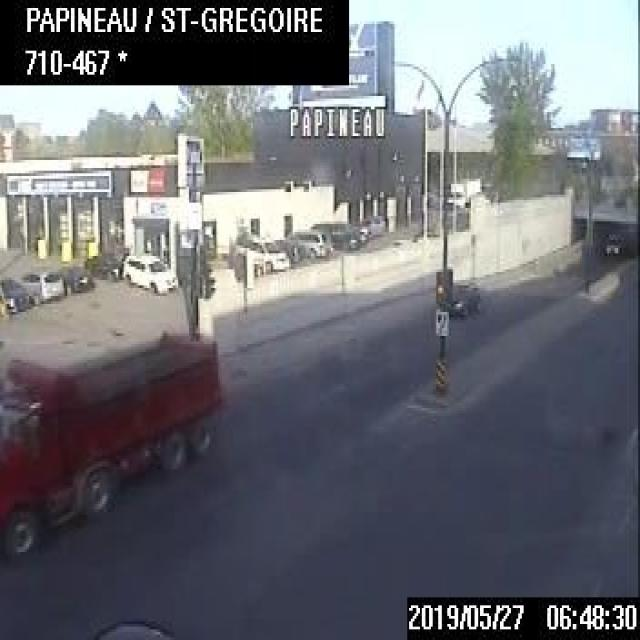vehicle: (0, 328, 220, 557), (232, 229, 290, 276), (121, 250, 176, 295), (311, 217, 361, 252), (447, 172, 485, 212), (291, 225, 333, 257), (447, 275, 478, 317), (18, 269, 61, 299), (57, 261, 93, 292), (0, 276, 27, 316), (84, 253, 120, 277), (602, 229, 622, 256)
